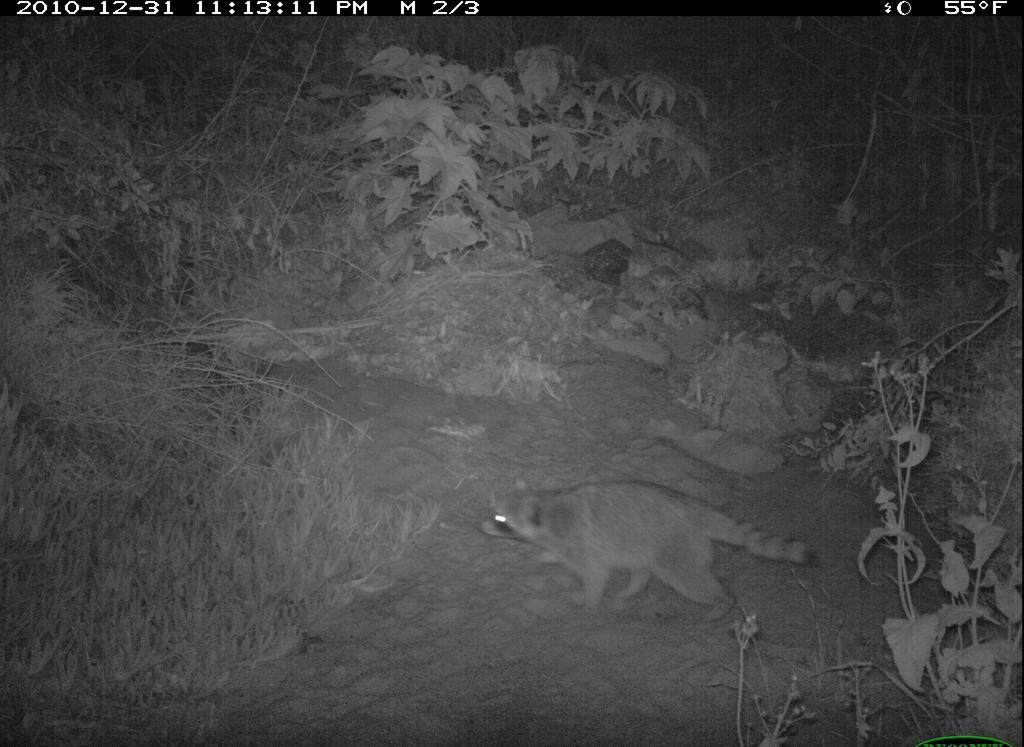raccoon: (484, 463, 830, 626)
